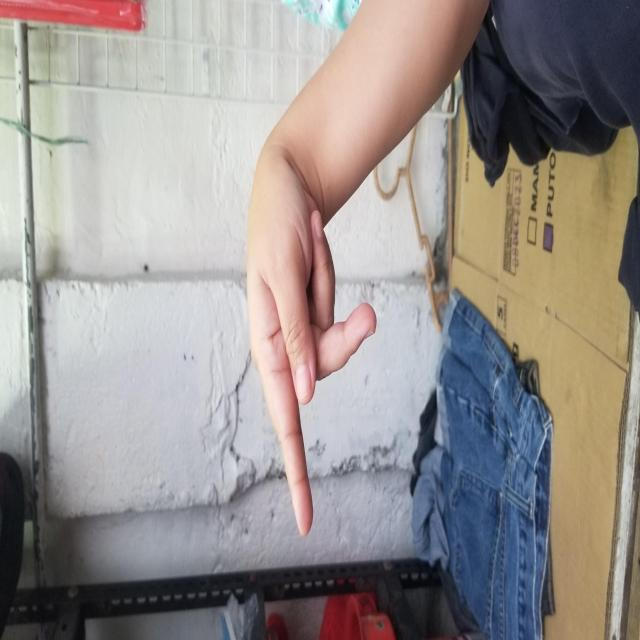P: (180, 138, 437, 586)
